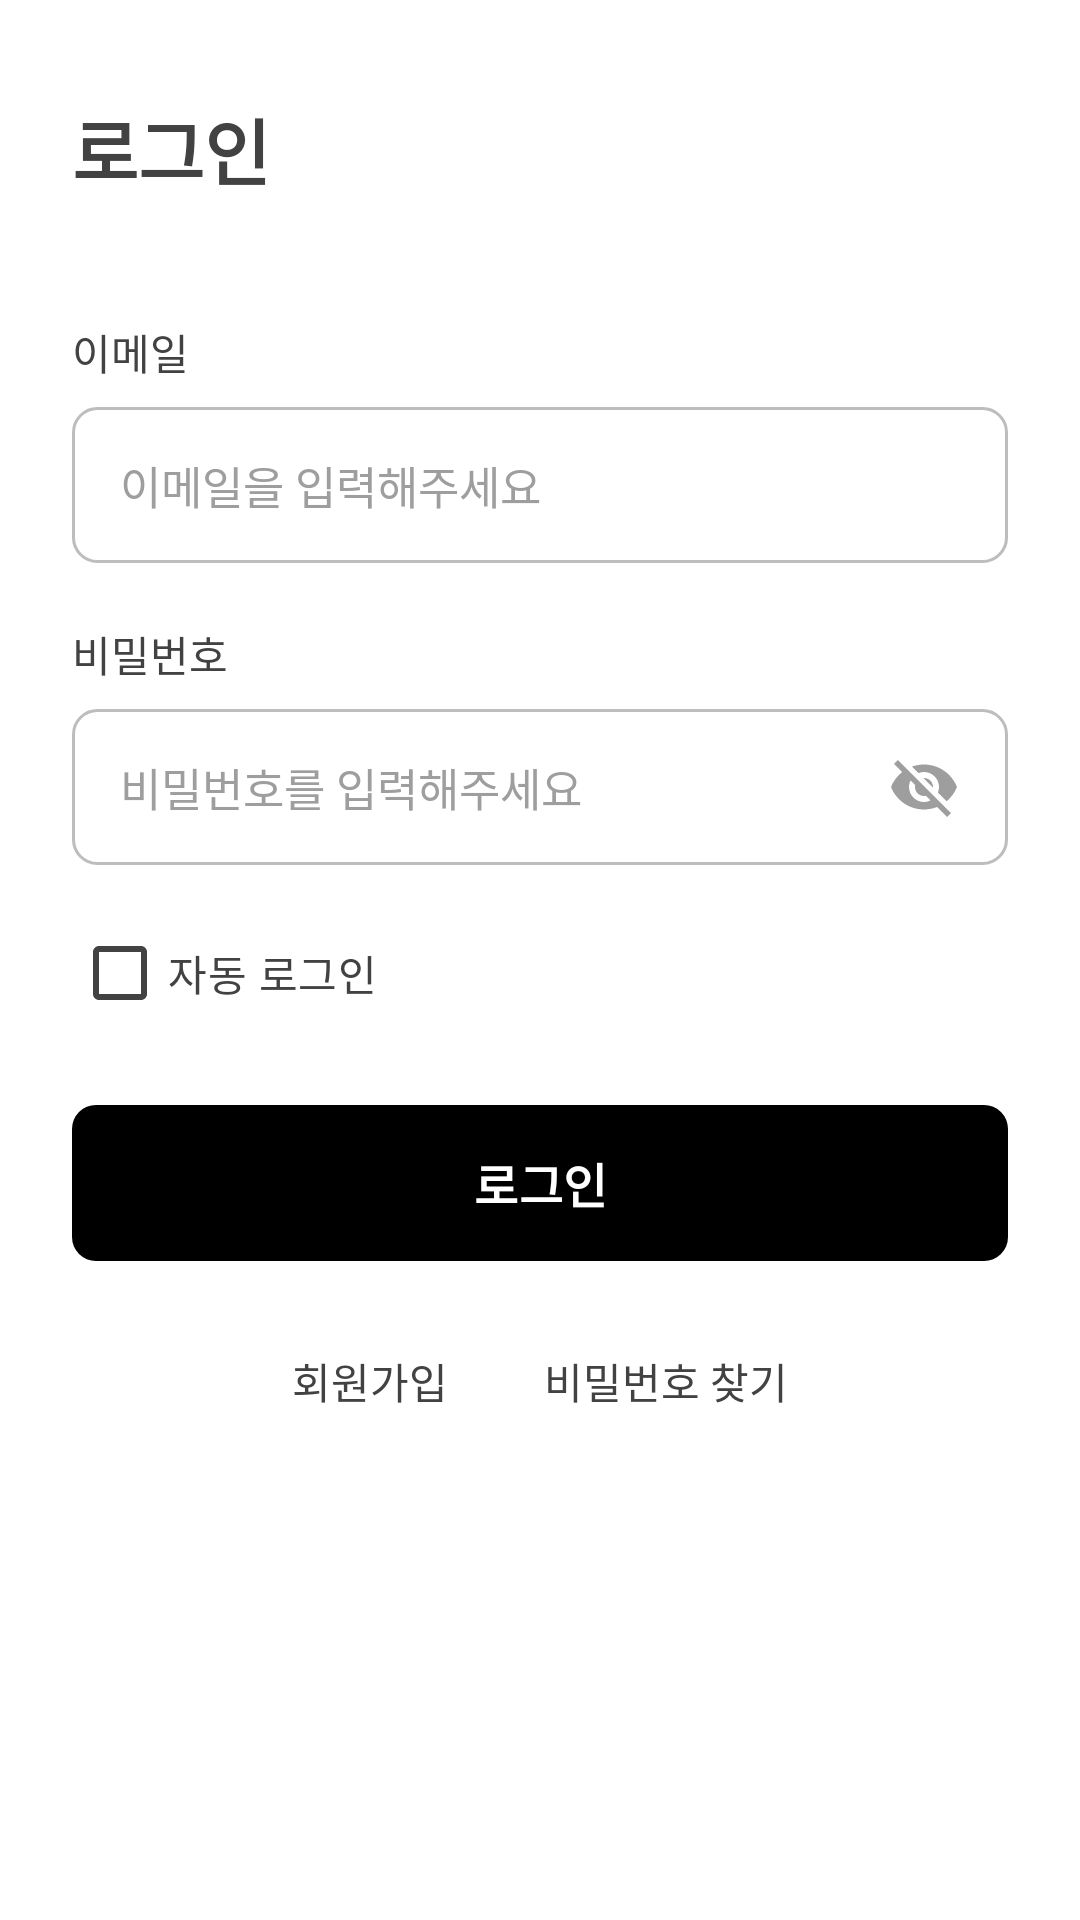

Icon click points for this 1080×1920 phone screenshot, format point (x, y):
비밀번호 보기: point (924, 788)
